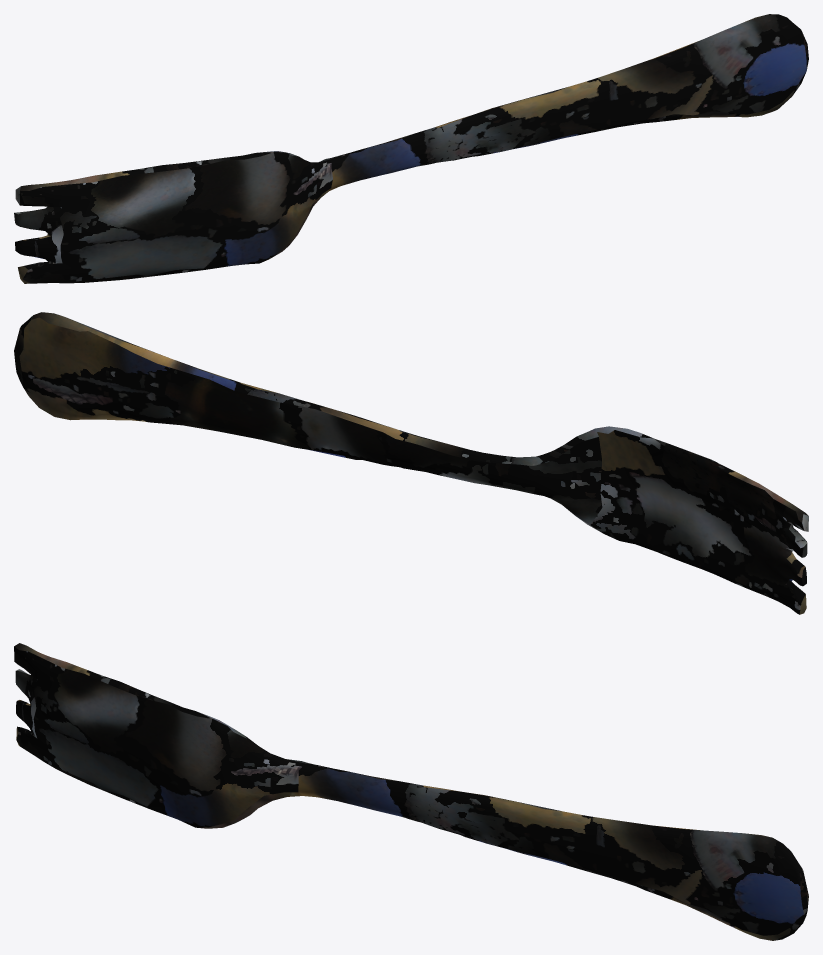
Rendered from refine_init_mesh_cutlery-fork_1.obj.
3 views of the same model, one above another, from view 1: azimuth 30°, elevation 25°; view 2: azimuth 150°, elevation 25°; view 3: azimuth 330°, elevation 25° (orthographic). The views are drawn at different scales.
Visible parts, largest first — view 1: geometry_0; view 2: geometry_0; view 3: geometry_0.
Boxes of the visible parts, left/top/right/bottom form: geometry_0: left=14, top=14, right=808, bottom=283; geometry_0: left=14, top=312, right=808, bottom=614; geometry_0: left=14, top=643, right=808, bottom=940.
Bounding box in the file's own units: 0.5793 × 0.0785 × 0.0533.
